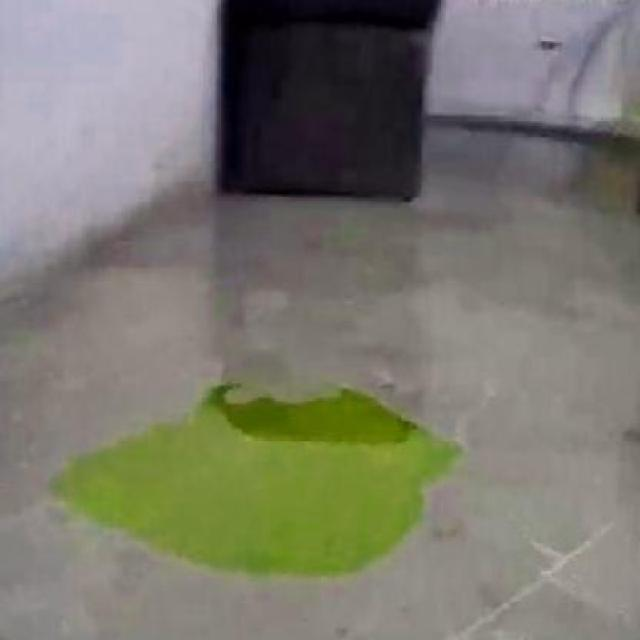spillage: (47, 386, 465, 580)
